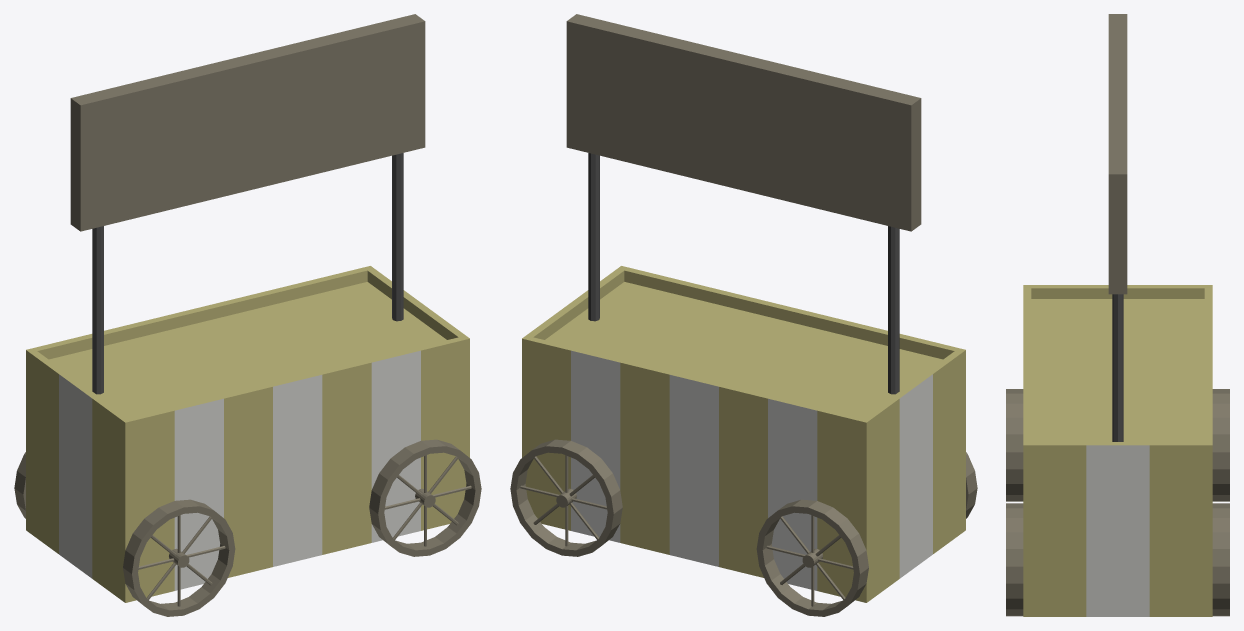
File: FoodStand.fbx
3 views of the same model, side by side, from view 1: azimuth 30°, elevation 25°; view 2: azimuth 150°, elevation 25°; view 3: azimuth 270°, elevation 25° (orthographic). The views are drawn at different scales.
Parts seen in each view (by area): view 1: pCylinder68; view 2: pCylinder68; view 3: pCylinder68.
Part boxes in pixels (x1,y1,x2,y2): pCylinder68: [14, 14, 481, 616]; pCylinder68: [510, 14, 977, 616]; pCylinder68: [1006, 14, 1229, 616].
Bounding box in the file's own units: 2.03 × 2.68 × 1.18.
